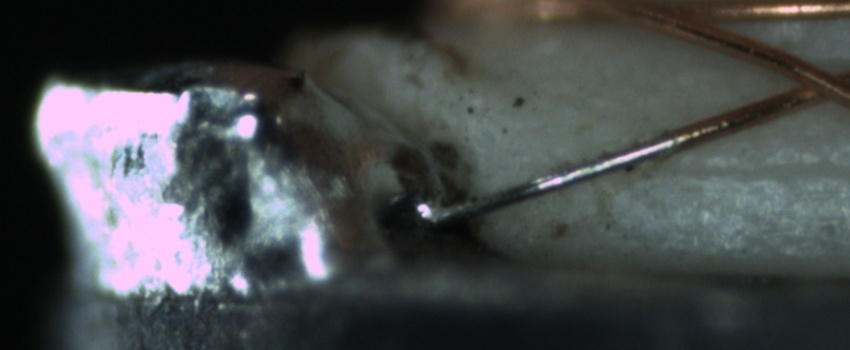CL: (770, 54, 848, 113)
DL: (629, 137, 850, 201)
TS: (438, 132, 682, 225)
